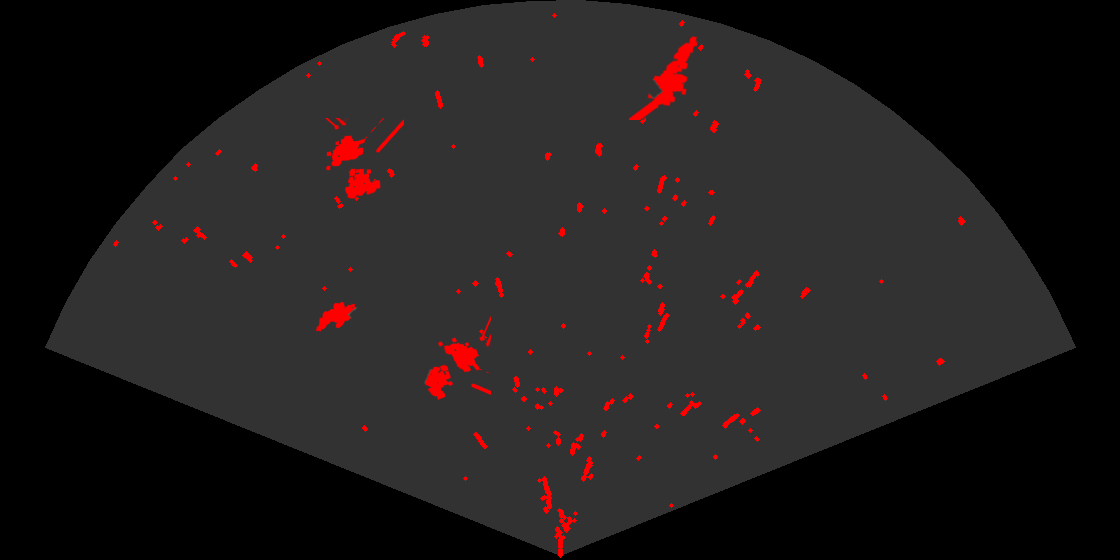AUV: (314, 300, 358, 333)
cage: (324, 118, 404, 200), (423, 315, 491, 402)
frogman: (629, 34, 700, 120)
